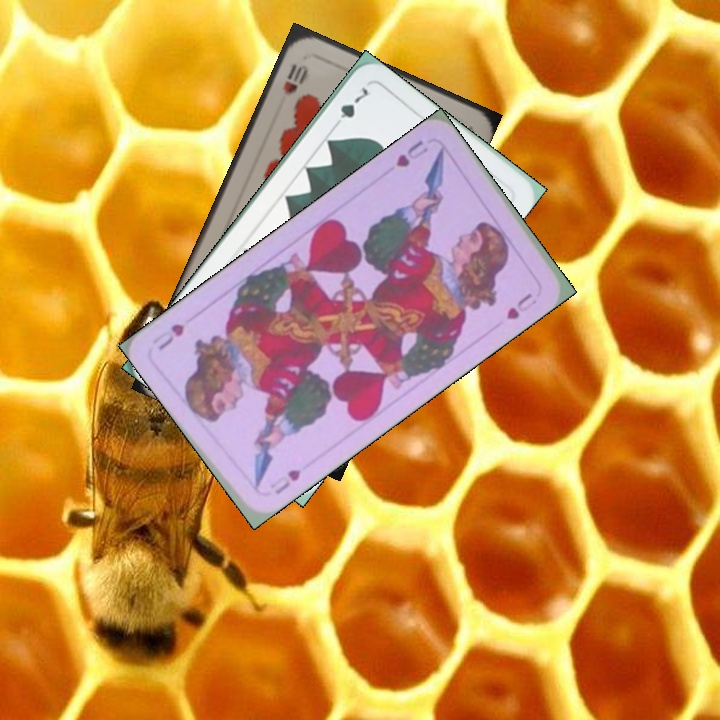G7: (328, 82, 372, 132)
H10: (278, 59, 310, 97)
HU: (391, 135, 431, 170), (270, 465, 304, 498)
